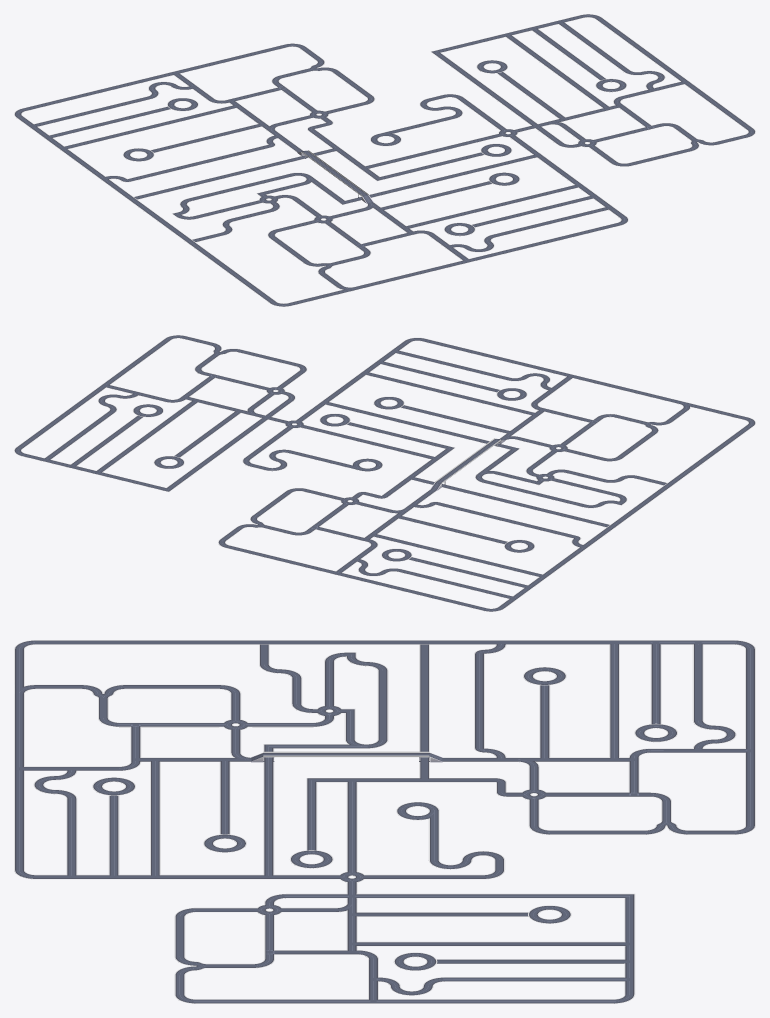
Rendered from City3RoadsFixed.glb.
3 renders of one model, top to bottom at view 1: azimuth 30°, elevation 25°; view 2: azimuth 150°, elevation 25°; view 3: azimuth 270°, elevation 25°, orthographic. The views are drawn at different scales.
Parts seen in each view (by area): view 1: road-straight104, road-straight19, road-straight6, road-straight100, road-straight3, road-straight59, road-straight63, road-straight26, road-straight91, road-straight97, road-straight84, road-straight69 (+9 smaller); view 2: road-straight104, road-straight19, road-straight6, road-straight100, road-straight3, road-straight63, road-straight59, road-straight26, road-straight91, road-straight97, road-straight84, road-straight69 (+10 smaller); view 3: road-straight104, road-straight63, road-straight59, road-straight3, road-straight100, road-straight6, road-straight19, road-straight84, road-straight91, road-straight26, road-straight69, road-straight97 (+18 smaller).
Part boxes in pixels (box(x1,y1,x2,y2)): road-straight104: box(103, 179, 262, 293); road-straight19: box(134, 155, 306, 199); road-straight6: box(407, 185, 578, 228); road-straight100: box(64, 105, 235, 149); road-straight3: box(369, 154, 536, 197); road-straight59: box(434, 53, 537, 125); road-straight63: box(505, 35, 609, 107); road-straight26: box(469, 223, 620, 261); road-straight91: box(22, 72, 173, 111); road-straight97: box(128, 144, 271, 181); road-straight84: box(595, 17, 686, 81); road-straight69: box(365, 134, 499, 168); road-straight104: box(583, 434, 739, 546); road-straight19: box(442, 484, 609, 527); road-straight6: box(366, 372, 534, 415); road-straight100: box(374, 534, 542, 576); road-straight3: box(326, 402, 489, 443); road-straight63: box(96, 401, 197, 472); road-straight59: box(166, 418, 267, 489); road-straight26: box(422, 338, 569, 376); road-straight91: box(338, 573, 486, 610); road-straight97: box(435, 502, 577, 538); road-straight84: box(16, 386, 105, 448); road-straight69: box(303, 425, 434, 459); road-straight104: box(73, 640, 496, 644); road-straight63: box(357, 941, 625, 946); road-straight59: box(356, 893, 624, 898); road-straight3: box(263, 761, 274, 874); road-straight100: box(609, 644, 619, 757); road-straight6: box(150, 762, 160, 875); road-straight19: box(419, 644, 429, 758); road-straight84: box(378, 999, 613, 1003); road-straight91: box(745, 649, 755, 748); road-straight26: box(14, 770, 24, 869); road-straight69: box(346, 782, 357, 870); road-straight97: box(474, 653, 484, 748).
Size of the model in its own units: 549 by 4.43 by 473.
13 materials, 13 textured.
